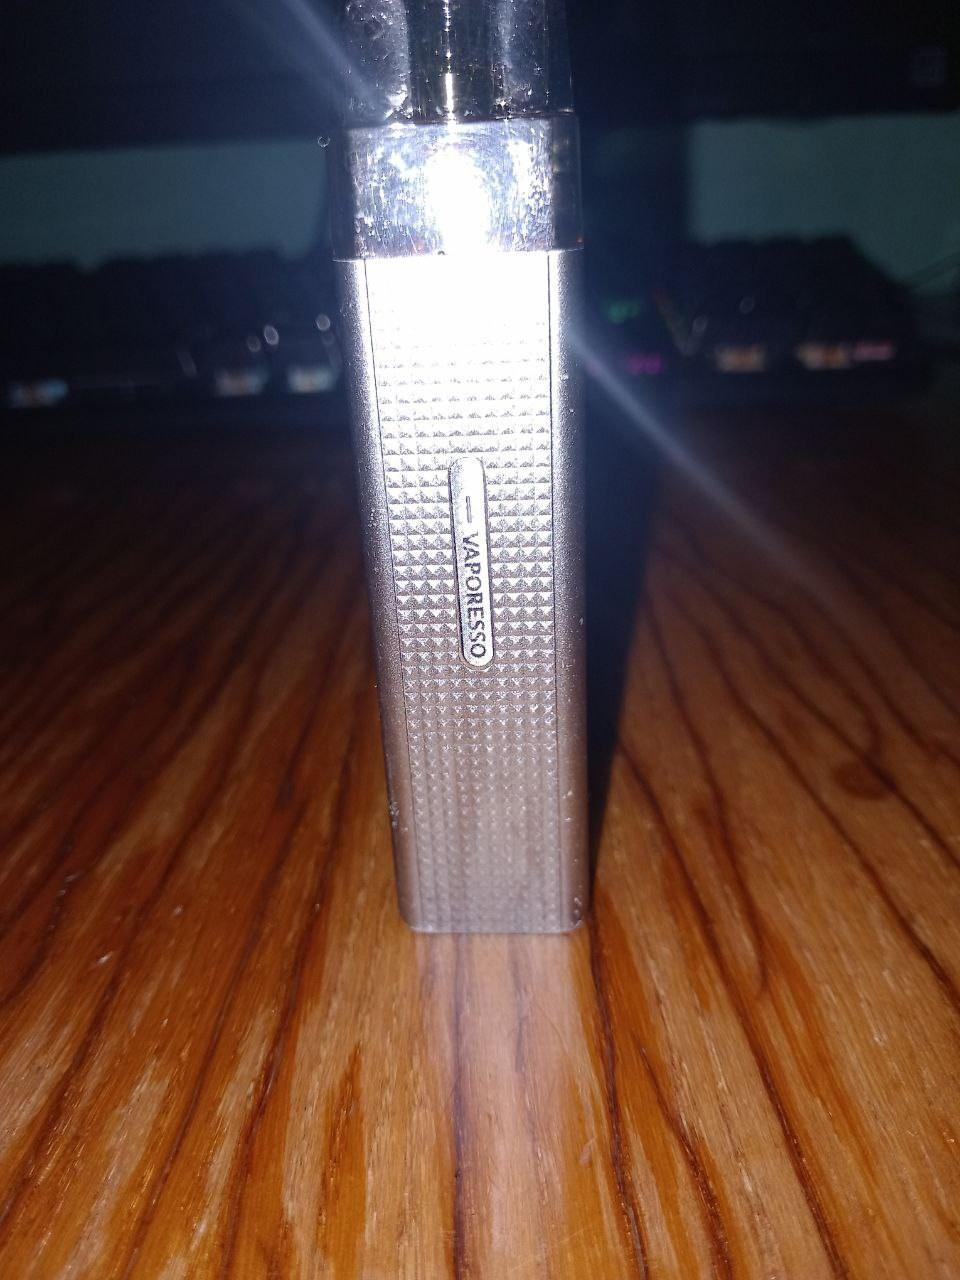Vape: (327, 0, 586, 932)
